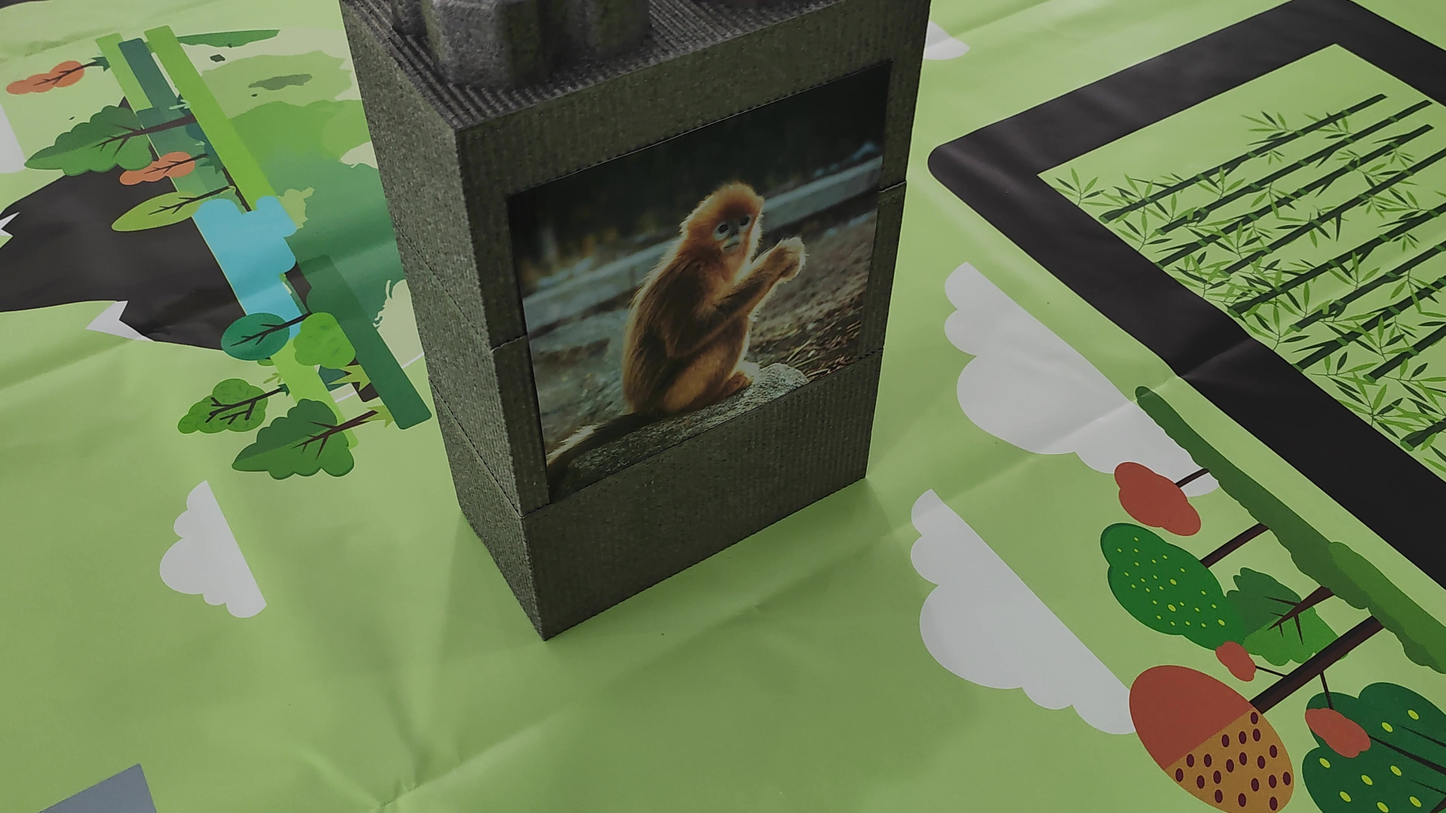monkey: (529, 175, 831, 496)
